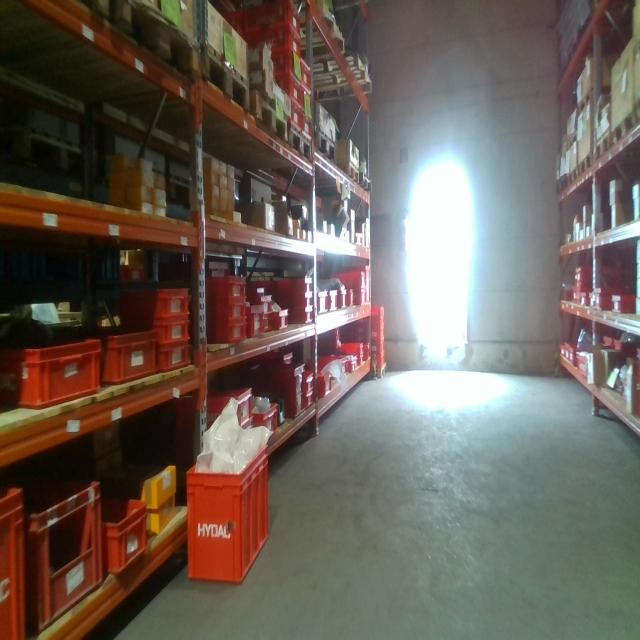pallet: (115, 3, 199, 88), (202, 39, 250, 122), (250, 82, 286, 151), (288, 117, 315, 170), (75, 0, 113, 29), (578, 86, 610, 120), (610, 109, 635, 151), (314, 127, 339, 168), (336, 158, 358, 189), (594, 131, 609, 169), (358, 166, 373, 196), (578, 152, 592, 183), (373, 362, 388, 379), (568, 165, 575, 194), (634, 99, 639, 128)
small_load_carrier: (186, 438, 270, 584), (30, 472, 103, 634), (4, 324, 103, 418), (3, 481, 33, 638), (104, 493, 150, 583), (100, 322, 158, 390), (174, 388, 257, 430), (111, 276, 193, 316), (244, 3, 303, 36), (245, 363, 307, 393), (246, 26, 303, 55), (202, 319, 248, 352), (216, 7, 249, 50), (200, 269, 249, 297), (268, 48, 303, 86), (153, 316, 193, 348), (253, 396, 283, 438), (153, 346, 191, 378), (270, 74, 301, 110), (202, 297, 249, 319), (264, 277, 313, 294), (244, 302, 265, 341), (594, 290, 624, 316), (283, 387, 307, 419), (573, 263, 611, 283), (606, 295, 634, 320), (343, 339, 365, 370), (272, 309, 293, 341), (333, 270, 368, 289), (274, 294, 313, 311), (274, 311, 314, 325), (613, 335, 636, 356), (634, 348, 640, 423), (287, 102, 304, 127), (576, 353, 592, 377), (361, 267, 371, 305), (318, 371, 332, 398), (301, 88, 314, 117), (343, 288, 359, 311), (303, 367, 318, 391), (326, 288, 337, 318), (301, 56, 311, 89), (315, 291, 328, 316), (305, 388, 318, 410), (301, 114, 312, 139), (337, 291, 350, 312), (572, 285, 585, 306), (569, 347, 580, 370), (370, 355, 385, 368), (580, 291, 592, 307), (357, 289, 367, 308), (371, 327, 385, 340), (603, 331, 613, 349), (372, 342, 384, 355), (372, 317, 385, 327), (564, 343, 571, 360), (556, 347, 563, 357)
